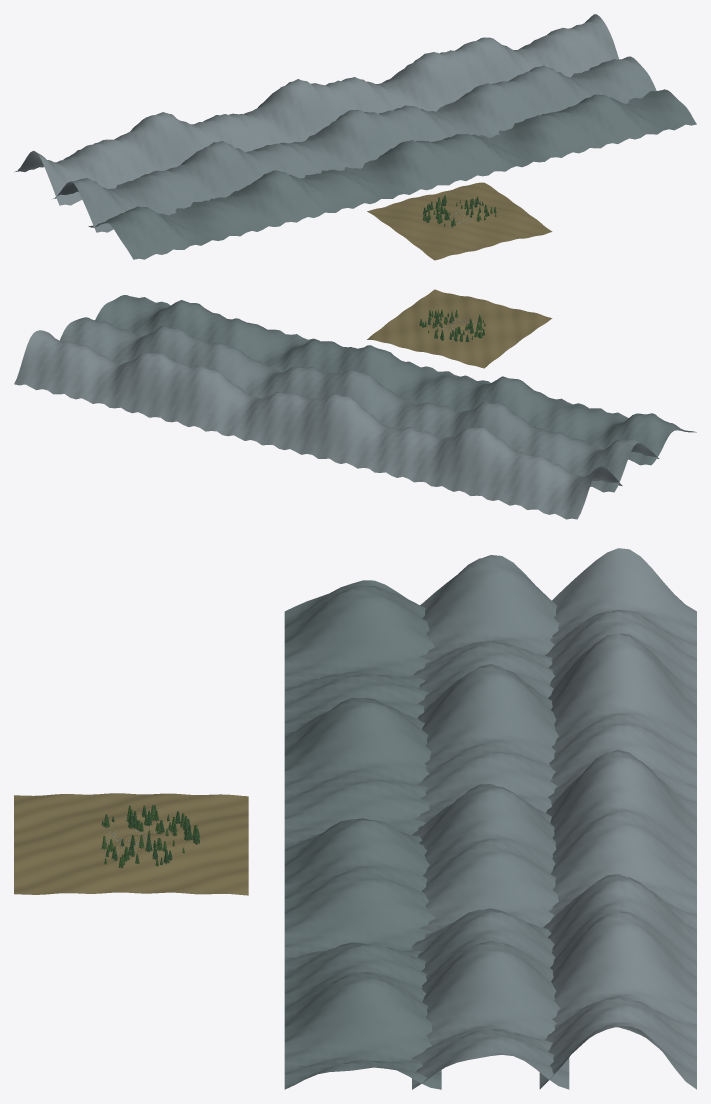
The model's file is landscape.glb.
The picture shows the model from 3 angles, top to bottom: view 1: azimuth 30°, elevation 25°; view 2: azimuth 150°, elevation 25°; view 3: azimuth 270°, elevation 25°; orthographic projection. The views are drawn at different scales.
Visible parts, largest first — view 1: Distant_Mountain_Layer_0, Distant_Mountain_Layer_2, Distant_Mountain_Layer_1, Landscape_Alpine_Ridge; view 2: Distant_Mountain_Layer_2, Distant_Mountain_Layer_0, Distant_Mountain_Layer_1, Landscape_Alpine_Ridge; view 3: Distant_Mountain_Layer_2, Distant_Mountain_Layer_0, Distant_Mountain_Layer_1, Landscape_Alpine_Ridge.
Part boxes in pixels (x1,y1,x2,y2): Distant_Mountain_Layer_0: [88, 89, 696, 259]; Distant_Mountain_Layer_2: [14, 14, 618, 205]; Distant_Mountain_Layer_1: [53, 56, 656, 232]; Landscape_Alpine_Ridge: [367, 182, 552, 260]; Distant_Mountain_Layer_2: [14, 330, 622, 519]; Distant_Mountain_Layer_0: [95, 295, 696, 465]; Distant_Mountain_Layer_1: [59, 317, 659, 492]; Landscape_Alpine_Ridge: [367, 289, 552, 368]; Distant_Mountain_Layer_2: [539, 548, 696, 1089]; Distant_Mountain_Layer_0: [284, 580, 441, 1089]; Distant_Mountain_Layer_1: [412, 555, 569, 1089]; Landscape_Alpine_Ridge: [14, 793, 248, 895].
Bounding box in the file's own units: 1100 × 89.21 × 669.
